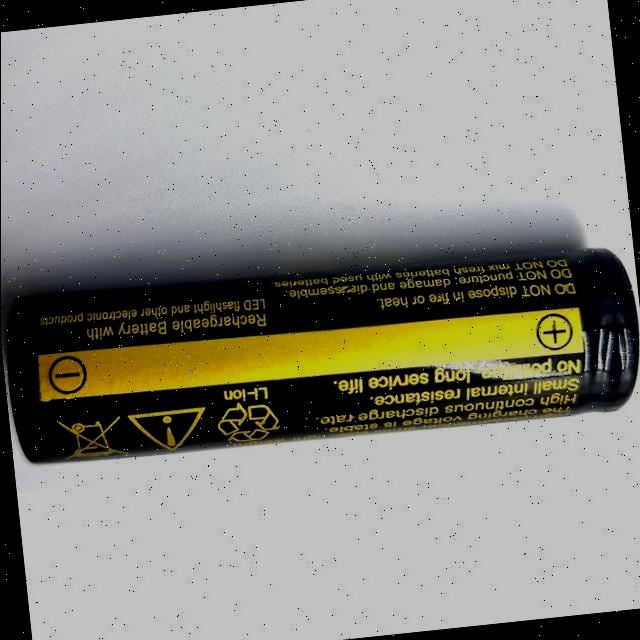AA: (7, 246, 639, 464)
